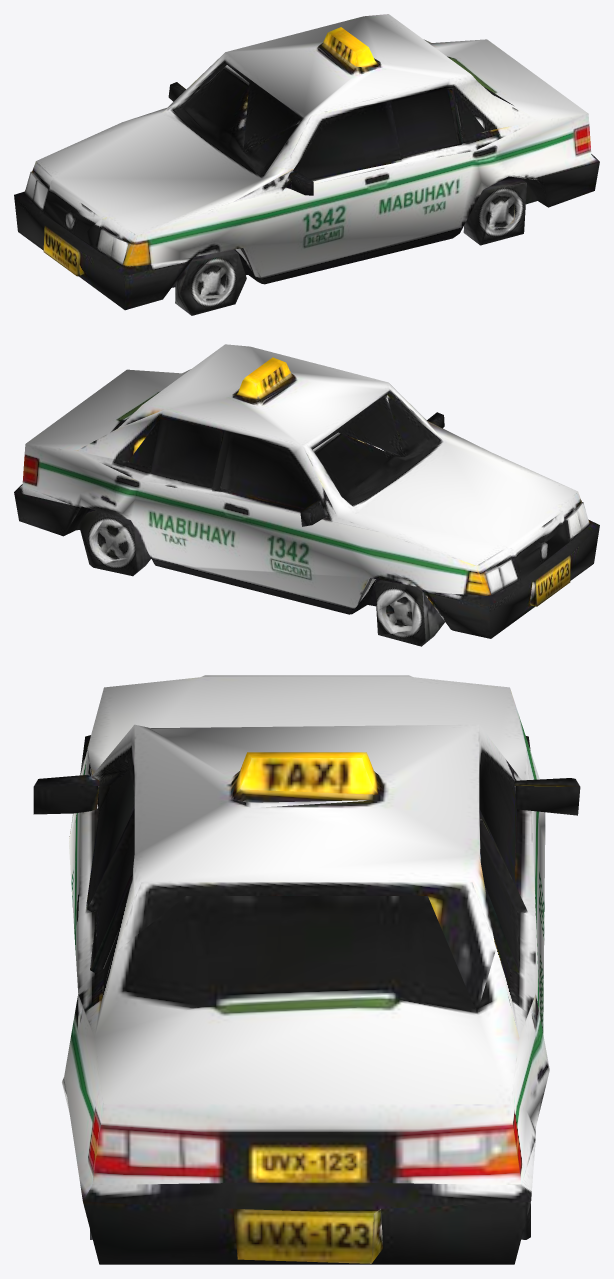
Rendered from taxi.glb.
The picture shows the model from 3 angles, top to bottom: view 1: azimuth 30°, elevation 25°; view 2: azimuth 150°, elevation 25°; view 3: azimuth 270°, elevation 25°; orthographic projection. The views are drawn at different scales.
Size of the model in its own units: 1.9 by 0.7084 by 0.9119.
Materials: 1 (1 with a texture image).
